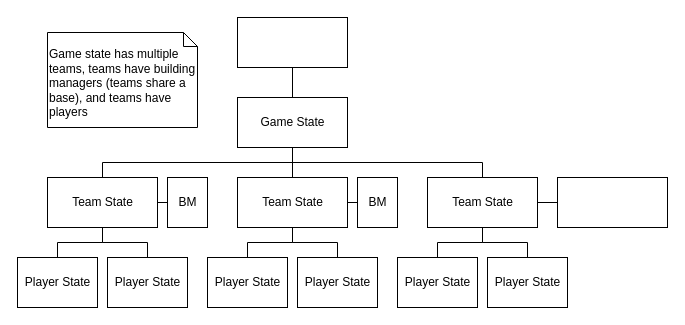
The diagram is 685 pixels wide and 325 high, and some of its shapes have lost their labels. Here are the shapes that lost their labels. From the top down, the centre of each, then its label:
pixel 292 42: World
pixel 612 202: Building Manager
